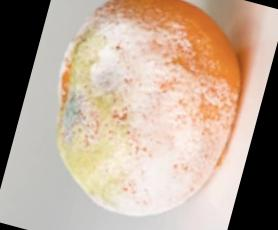Orange Rotten: (52, 0, 252, 221)
